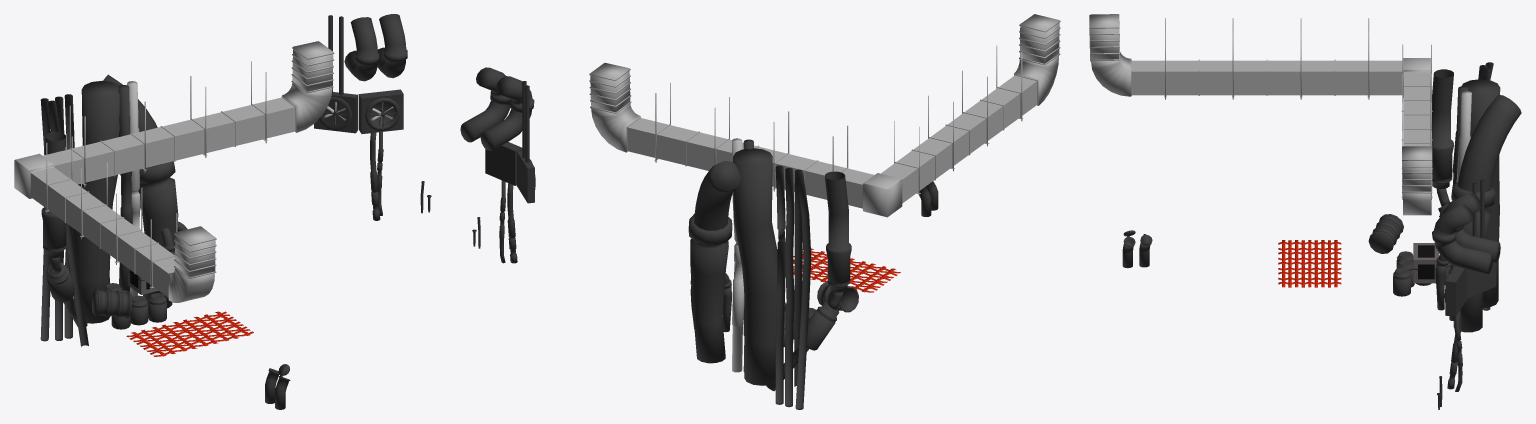
The model's file is Mesh_DrillTunnel_Room3_1.FBX.
The picture shows the model from 3 angles, left to right: view 1: azimuth 30°, elevation 25°; view 2: azimuth 150°, elevation 25°; view 3: azimuth 270°, elevation 25°; orthographic projection. The views are drawn at different scales.
Parts seen in each view (by area): view 1: Mesh_DrillTunnel_Room3_1; view 2: Mesh_DrillTunnel_Room3_1; view 3: Mesh_DrillTunnel_Room3_1.
Boxes of the visible parts, x1,y1,x2,y2 form: Mesh_DrillTunnel_Room3_1: (14,14,431,409); Mesh_DrillTunnel_Room3_1: (460,14,1060,409); Mesh_DrillTunnel_Room3_1: (1089,14,1521,409).
Bounding box in the file's own units: 5808 × 5303 × 3463.
